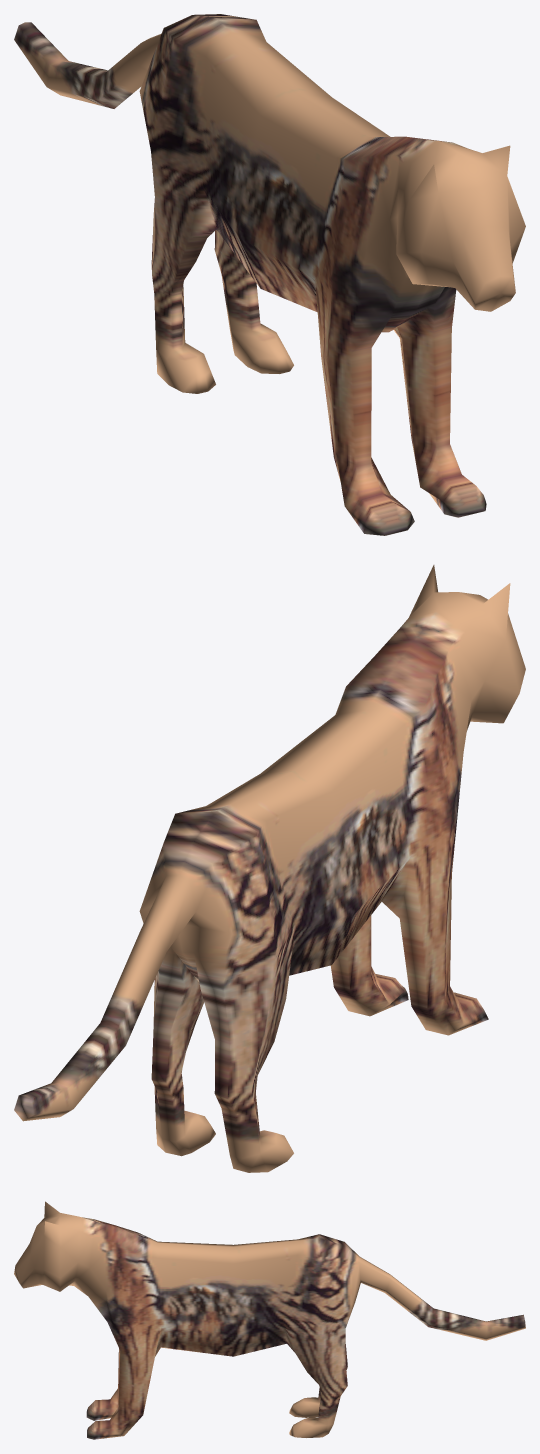
File: tiger.obj
The picture shows the model from 3 angles, top to bottom: view 1: azimuth 30°, elevation 25°; view 2: azimuth 150°, elevation 25°; view 3: azimuth 270°, elevation 25°; orthographic projection. The views are drawn at different scales.
Parts seen in each view (by area): view 1: $dummy_node; view 2: $dummy_node; view 3: $dummy_node.
Boxes of the visible parts, box(x1,y1,x2,y2) form: $dummy_node: box(14, 14, 525, 535); $dummy_node: box(14, 565, 525, 1172); $dummy_node: box(14, 1201, 525, 1439).
Bounding box in the file's own units: 0.4584 × 1.39 × 3.04.
1 material, 1 textured.
